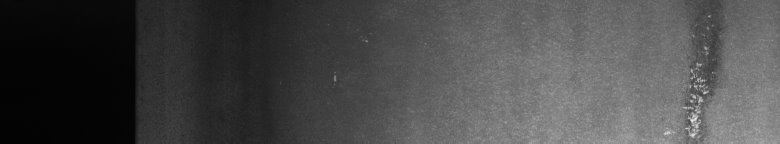hc: (664, 15, 724, 136)
